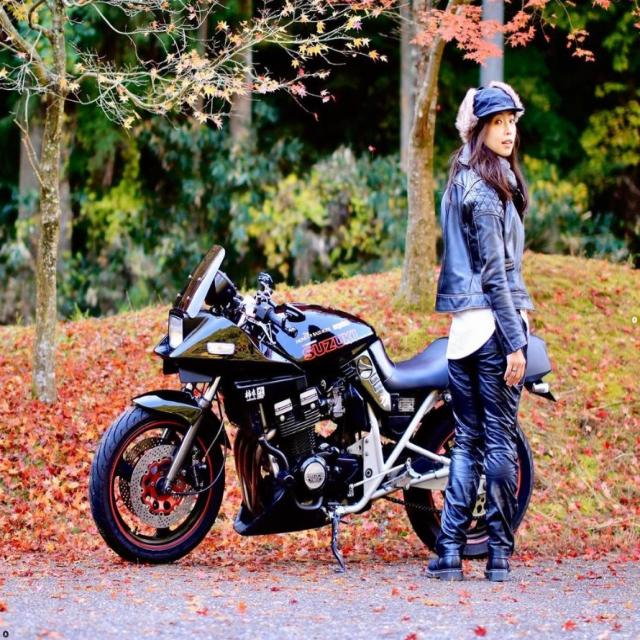illegal_helmet: (451, 79, 530, 165)
